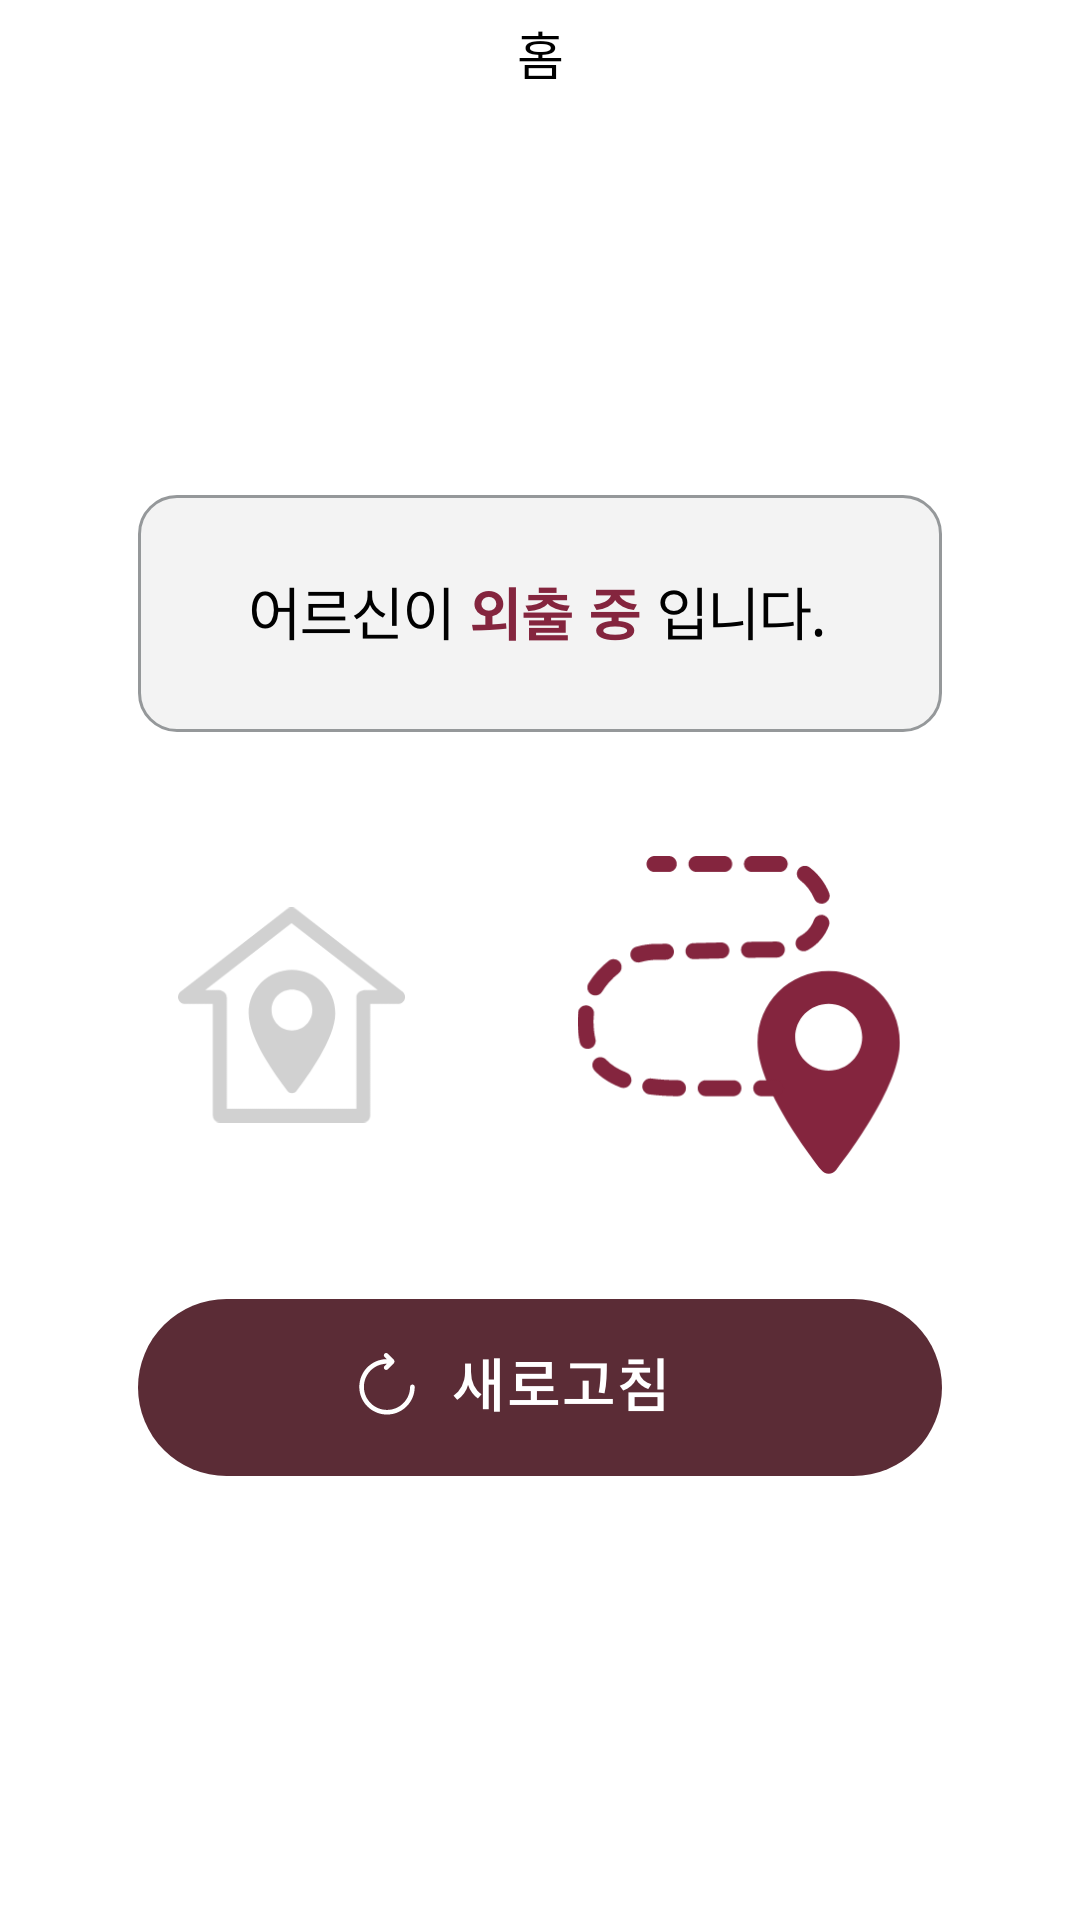

Point at icon controls on the screen. Image size 1080 x 1920, points as point (x, y).
home near: point (291, 1015)
home out: point (739, 1015)
